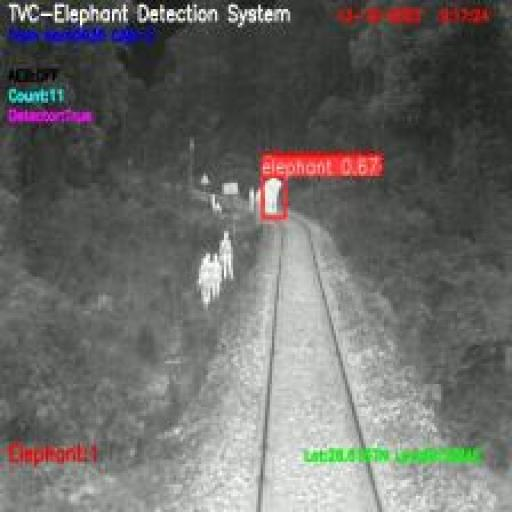Elephant: (263, 176, 286, 219)
